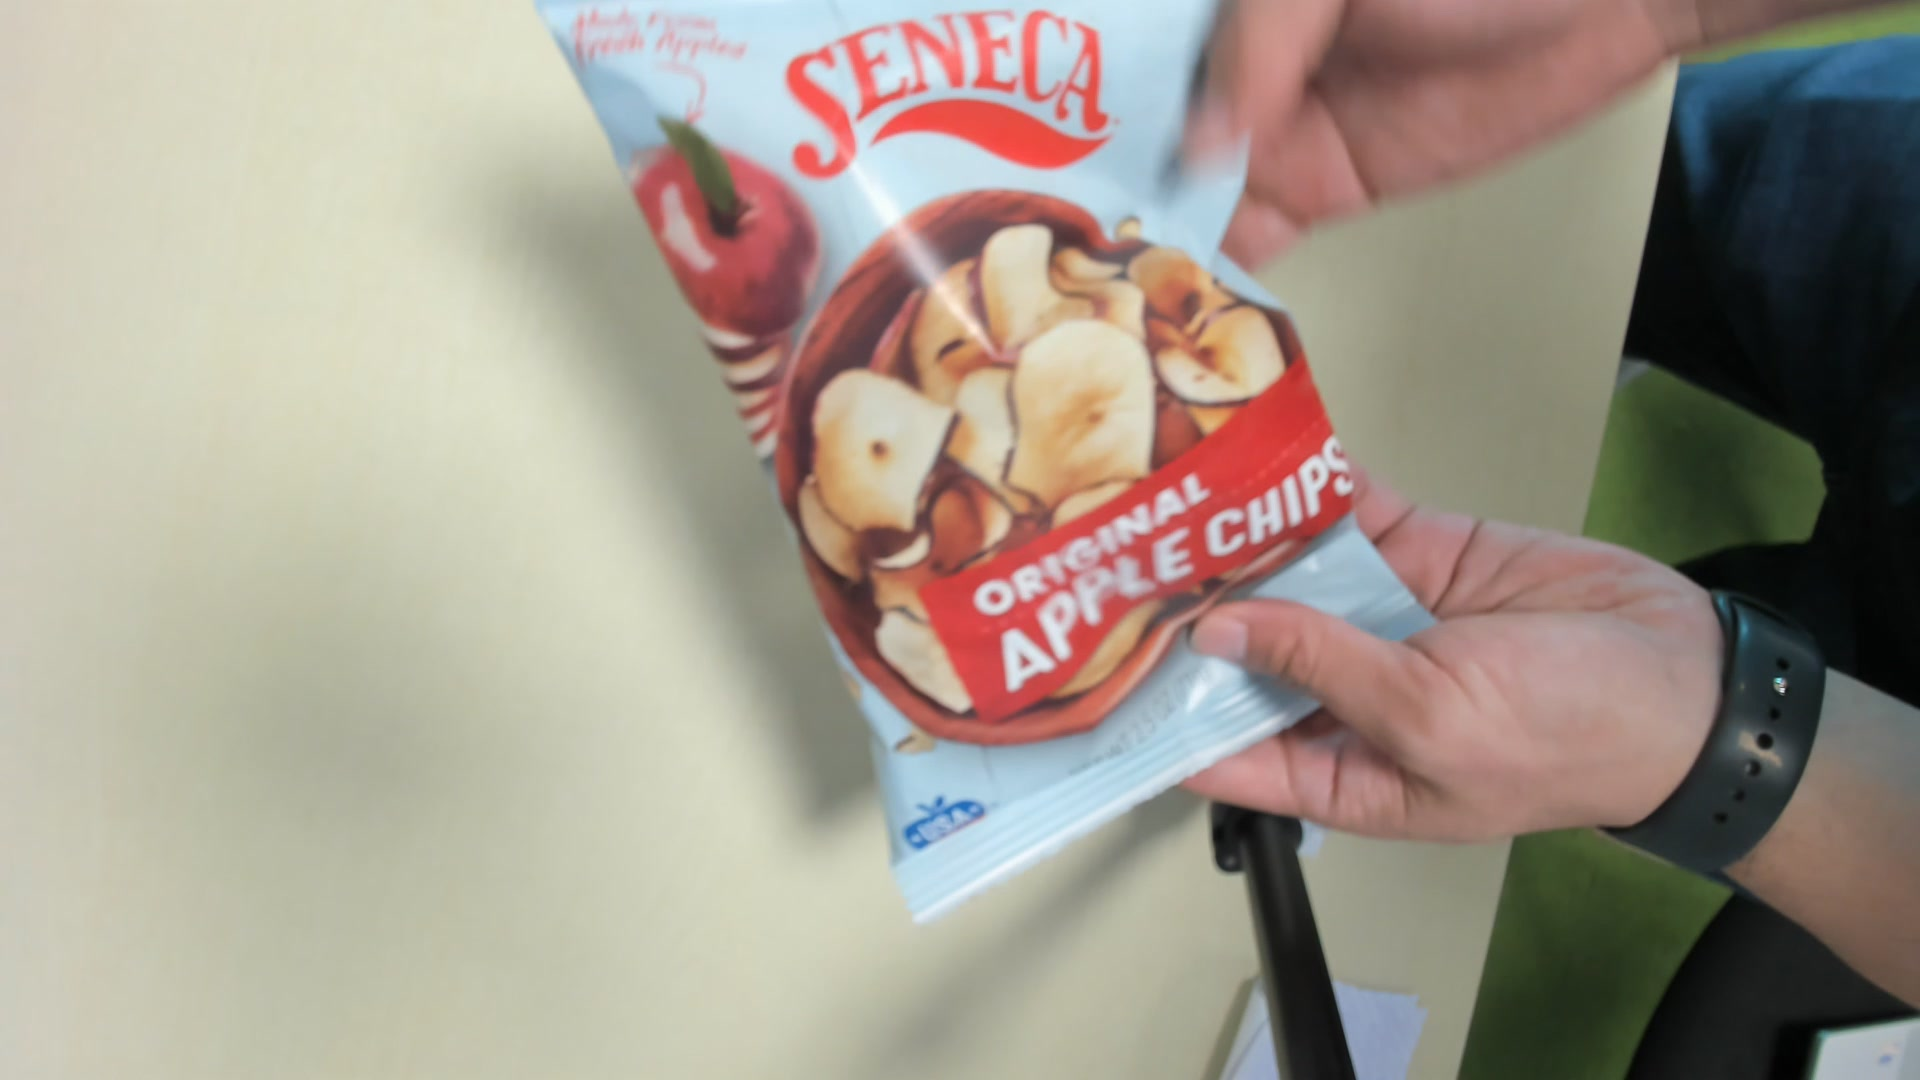PotatoChipsKeropok_0-99g_NonHalal_NonHealthy: (530, 1, 1428, 916)
